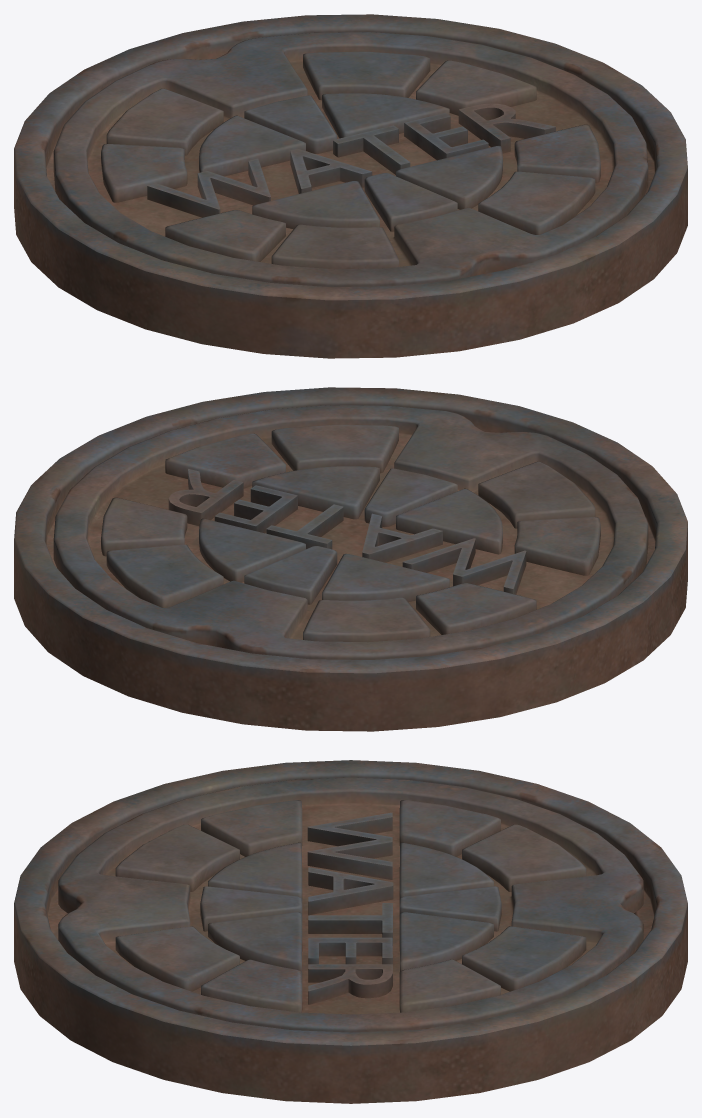
The model's file is water_manhole_cover.glb.
3 views of the same model, one above another, from view 1: azimuth 30°, elevation 25°; view 2: azimuth 150°, elevation 25°; view 3: azimuth 270°, elevation 25° (orthographic).
Parts seen in each view (by area): view 1: water_manhole; view 2: water_manhole; view 3: water_manhole.
Part boxes in pixels (bbox=[...]): water_manhole: bbox=[14, 14, 687, 358]; water_manhole: bbox=[14, 387, 687, 731]; water_manhole: bbox=[14, 760, 687, 1103].
Bounding box in the file's own units: 0.6908 × 0.0676 × 0.6908.
Materials: 1 (1 with a texture image).
